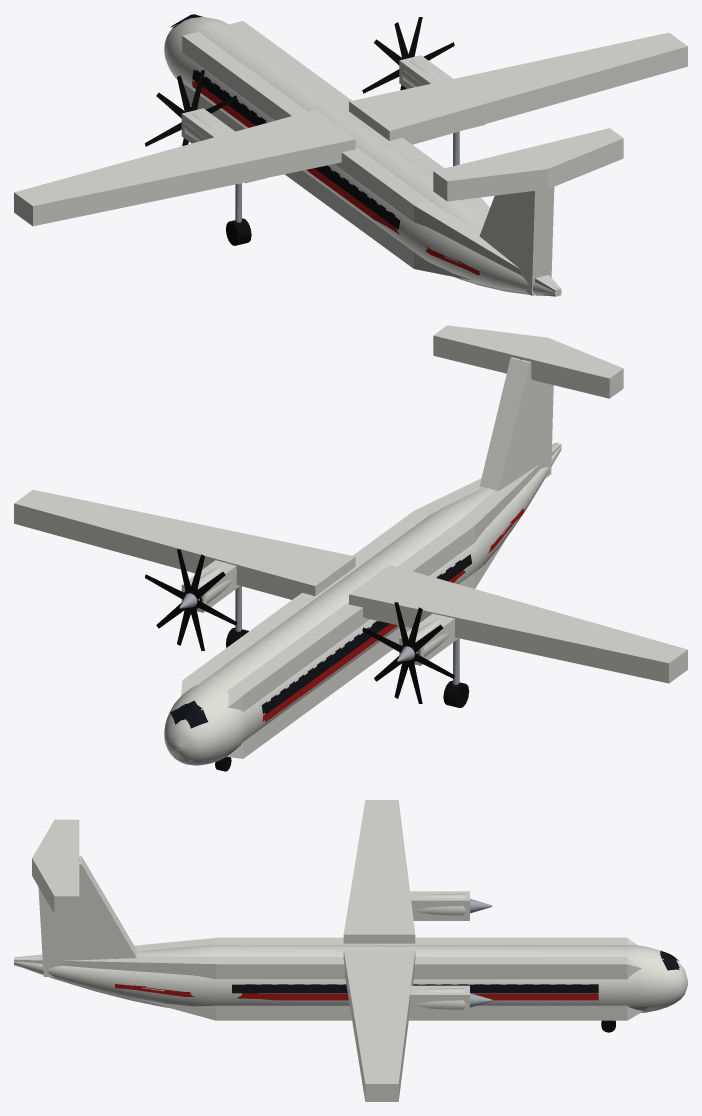
File: bne_ac_turboprop_red.dae
3 views of the same model, one above another, from view 1: azimuth 30°, elevation 25°; view 2: azimuth 150°, elevation 25°; view 3: azimuth 270°, elevation 25° (orthographic). The views are drawn at different scales.
Parts seen in each view (by area): view 1: Colmesh_bne_ac_turboprop_red-1, bne_ac_turboprop_red160, bne_ac_turboprop_red16; view 2: Colmesh_bne_ac_turboprop_red-1, bne_ac_turboprop_red160, bne_ac_turboprop_red16; view 3: Colmesh_bne_ac_turboprop_red-1, bne_ac_turboprop_red160, bne_ac_turboprop_red16.
Boxes of the visible parts, left/top/right/bottom form: Colmesh_bne_ac_turboprop_red-1: left=14, top=21, right=687, bottom=296; bne_ac_turboprop_red160: left=14, top=16, right=561, bottom=296; bne_ac_turboprop_red16: left=171, top=14, right=560, bottom=296; Colmesh_bne_ac_turboprop_red-1: left=14, top=325, right=687, bottom=758; bne_ac_turboprop_red160: left=145, top=359, right=686, bottom=771; bne_ac_turboprop_red16: left=170, top=443, right=557, bottom=770; Colmesh_bne_ac_turboprop_red-1: left=14, top=800, right=643, bottom=1101; bne_ac_turboprop_red160: left=14, top=860, right=687, bottom=1094; bne_ac_turboprop_red16: left=15, top=902, right=679, bottom=1032.
Size of the model in its own units: 27.1 by 27.2 by 7.7.
